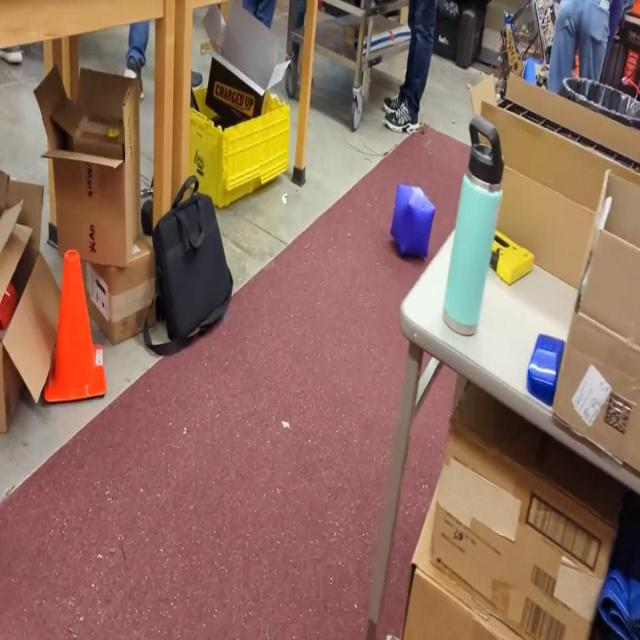frc_cube: (388, 182, 436, 258)
